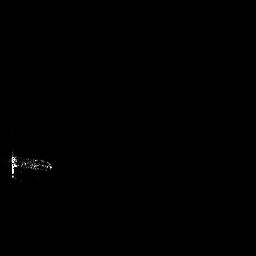ship: (8, 150, 53, 179)
